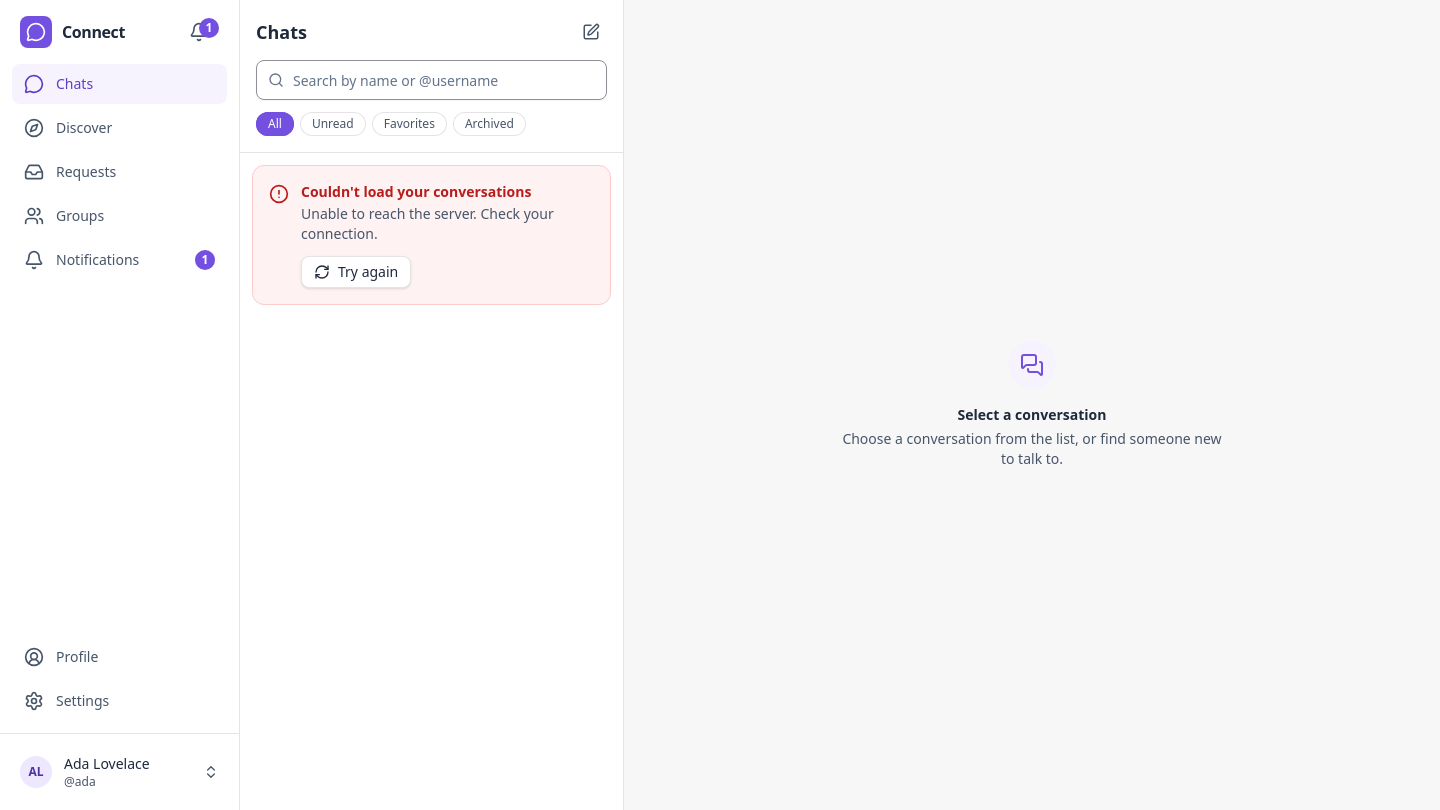
Scenario: NotificationBell › opens the latest notifications, closes with Escape and returns focus
The image size is (1440, 810).
Click the button named "Notifications, 1 unread" at (199, 32), box [179,12,219,52]
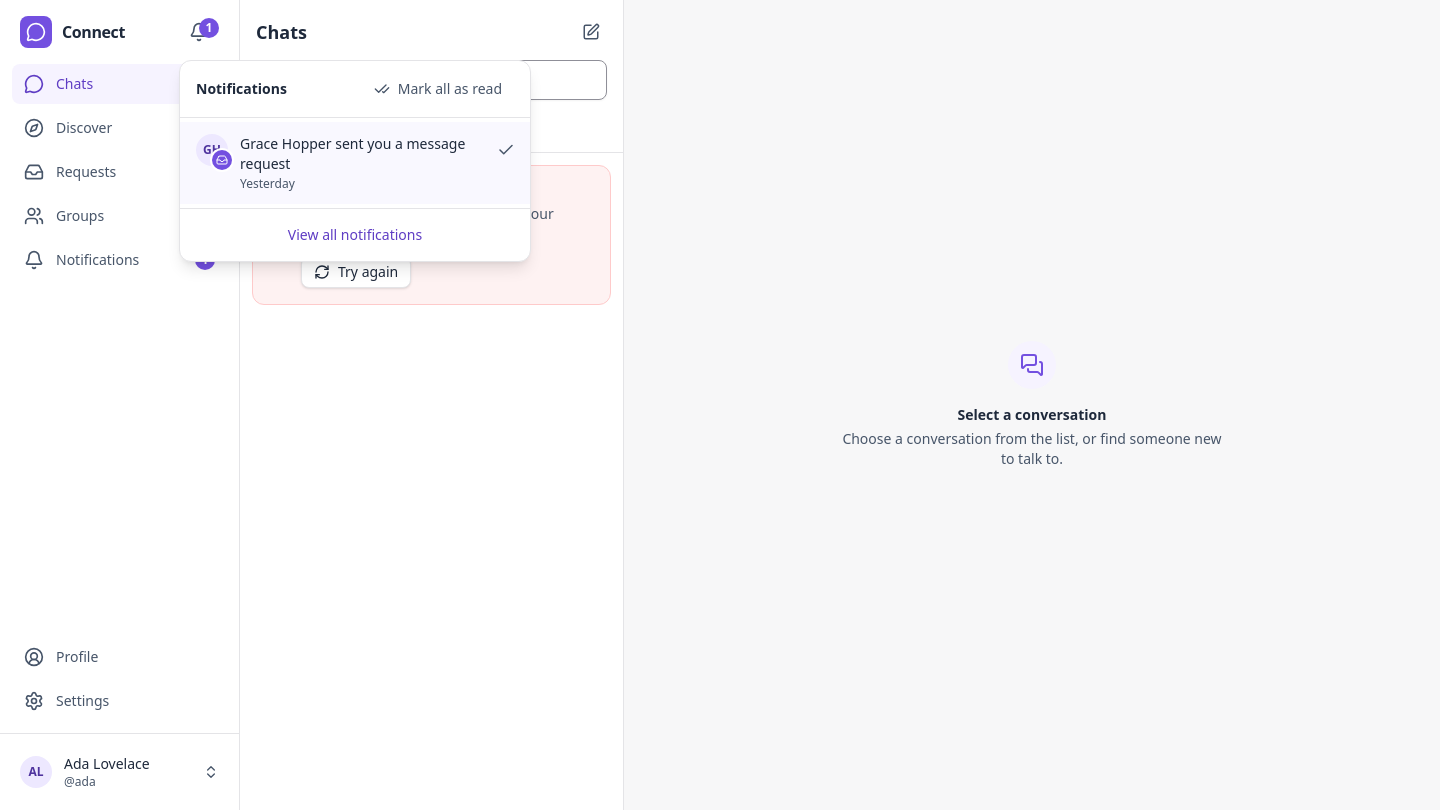
Expected: the text "Grace Hopper sent you a message request" is shown, [240,134,478,174]
Press Escape
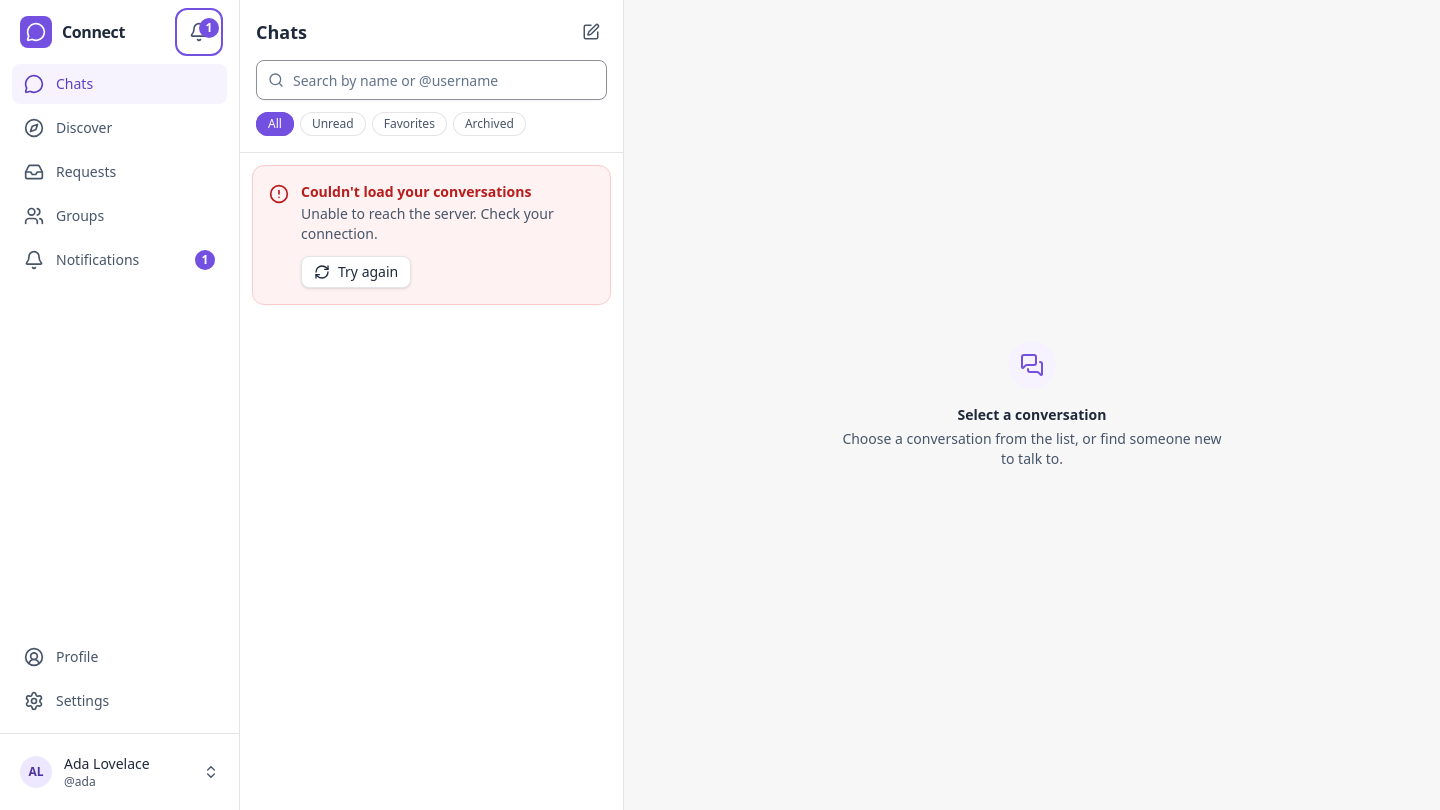
Expected: the list "GH Grace Hopper sent you a message request Yesterday" is gone
